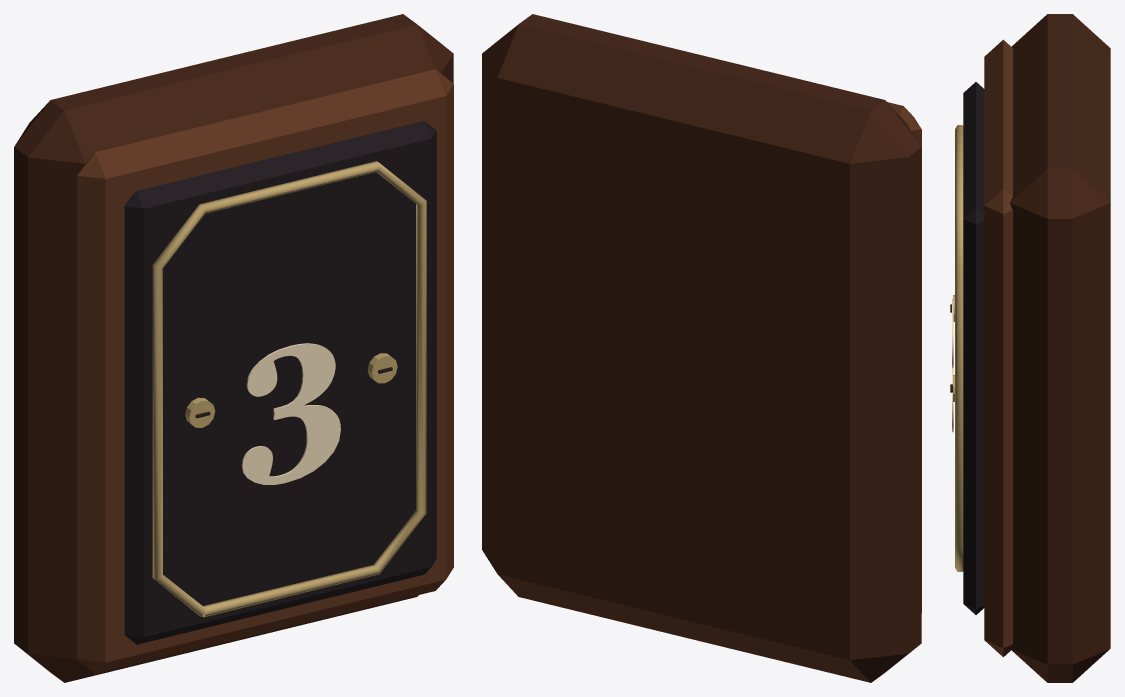
Rendered from BedroomNumber03.glb.
3 views of the same model, side by side, from view 1: azimuth 30°, elevation 25°; view 2: azimuth 150°, elevation 25°; view 3: azimuth 270°, elevation 25° (orthographic). The views are drawn at different scales.
Visible parts, largest first — view 1: EnamelFace.009, BevelledOak.009, OakMoulding.009, GoldCartouche.009, Lettering_3, FlushBrassFixing.019, FlushBrassFixing.018; view 2: BevelledOak.009, OakMoulding.009; view 3: BevelledOak.009, OakMoulding.009, EnamelFace.009, GoldCartouche.009.
Boxes of the visible parts, left/top/right/bottom form: EnamelFace.009: left=124, top=120, right=436, bottom=644; BevelledOak.009: left=14, top=14, right=453, bottom=682; OakMoulding.009: left=77, top=69, right=453, bottom=673; GoldCartouche.009: left=152, top=161, right=426, bottom=617; Lettering_3: left=241, top=343, right=340, bottom=484; FlushBrassFixing.019: left=367, top=353, right=397, bottom=383; FlushBrassFixing.018: left=185, top=397, right=215, bottom=427; BevelledOak.009: left=482, top=14, right=921, bottom=682; OakMoulding.009: left=887, top=102, right=921, bottom=612; BevelledOak.009: left=1010, top=14, right=1110, bottom=682; OakMoulding.009: left=984, top=39, right=1012, bottom=657; EnamelFace.009: left=963, top=82, right=984, bottom=614; GoldCartouche.009: left=955, top=125, right=963, bottom=571.
Bounding box in the file's own units: 1.05 × 1.35 × 0.381.
